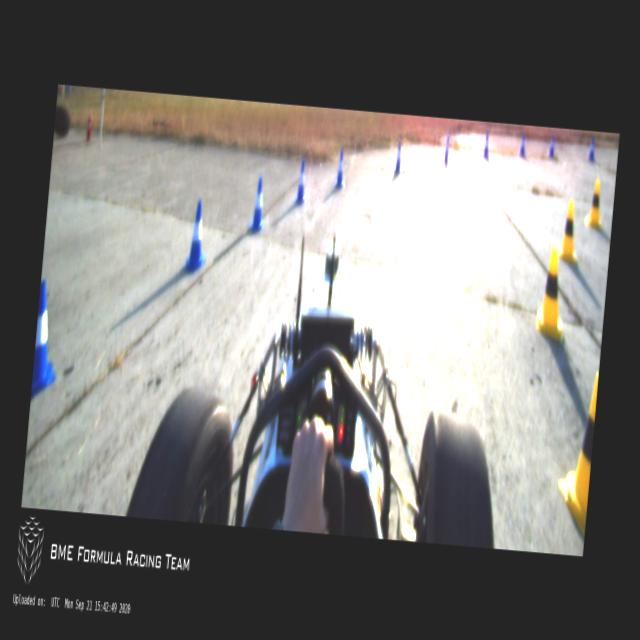blue_cone: (30, 280, 64, 404), (182, 198, 210, 274), (248, 176, 268, 232), (293, 158, 308, 204), (333, 148, 348, 188), (392, 140, 403, 174), (442, 134, 450, 164), (482, 132, 491, 158), (588, 136, 595, 160), (519, 133, 526, 156), (548, 134, 555, 156)
yellow_cone: (553, 370, 598, 540), (534, 242, 570, 339), (555, 198, 582, 264), (584, 178, 604, 228)
